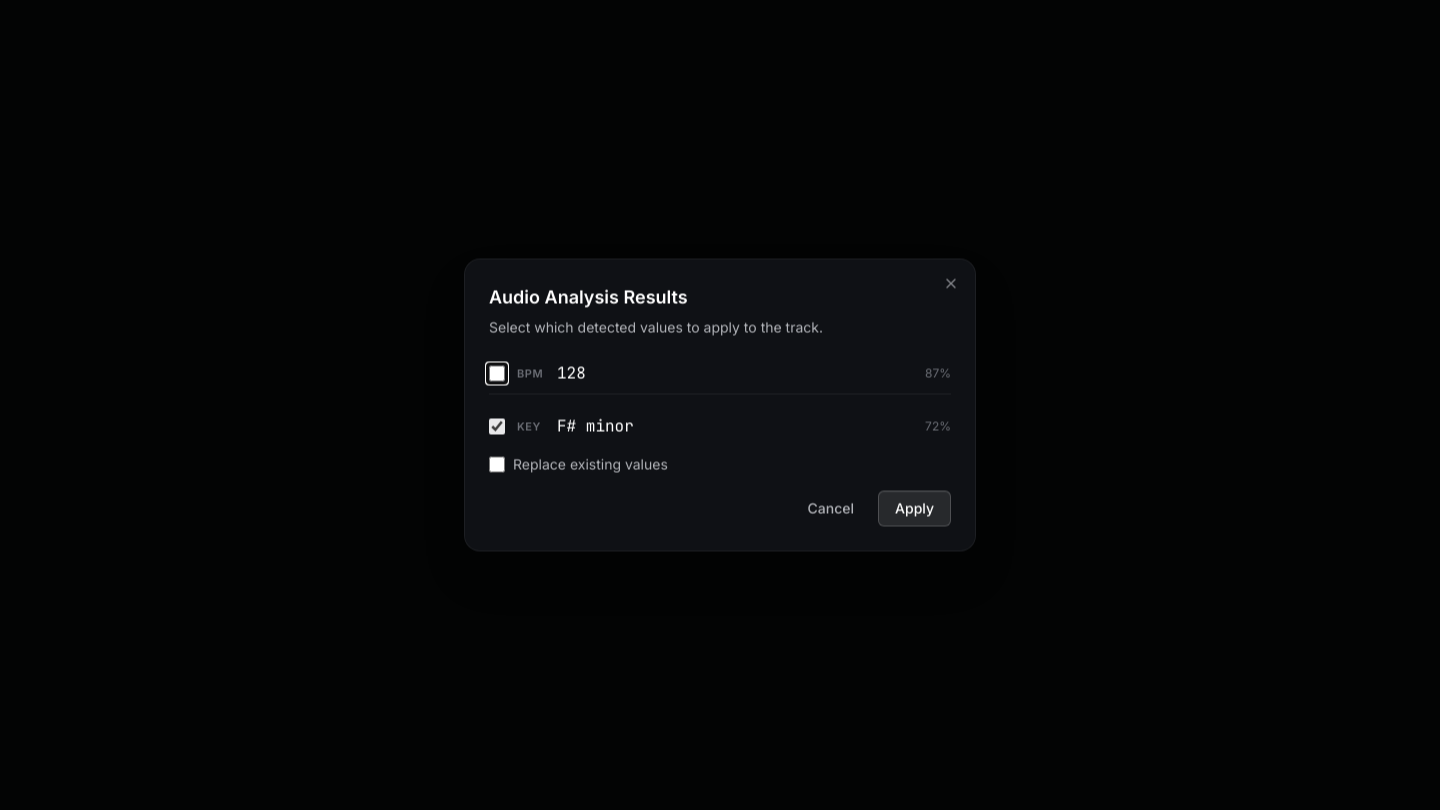
Test: AnalyzeResultDialog › Replace existing toggle flips BPM checkbox default to checked when field populated
The width and height of the screenshot is (1440, 810).
Expected: the checkbox next to "BPM" is not checked, [489,366,505,382]
Toggle Replace existing
Click the checkbox labelled "Replace existing values" at (497,464), box [489,456,505,472]
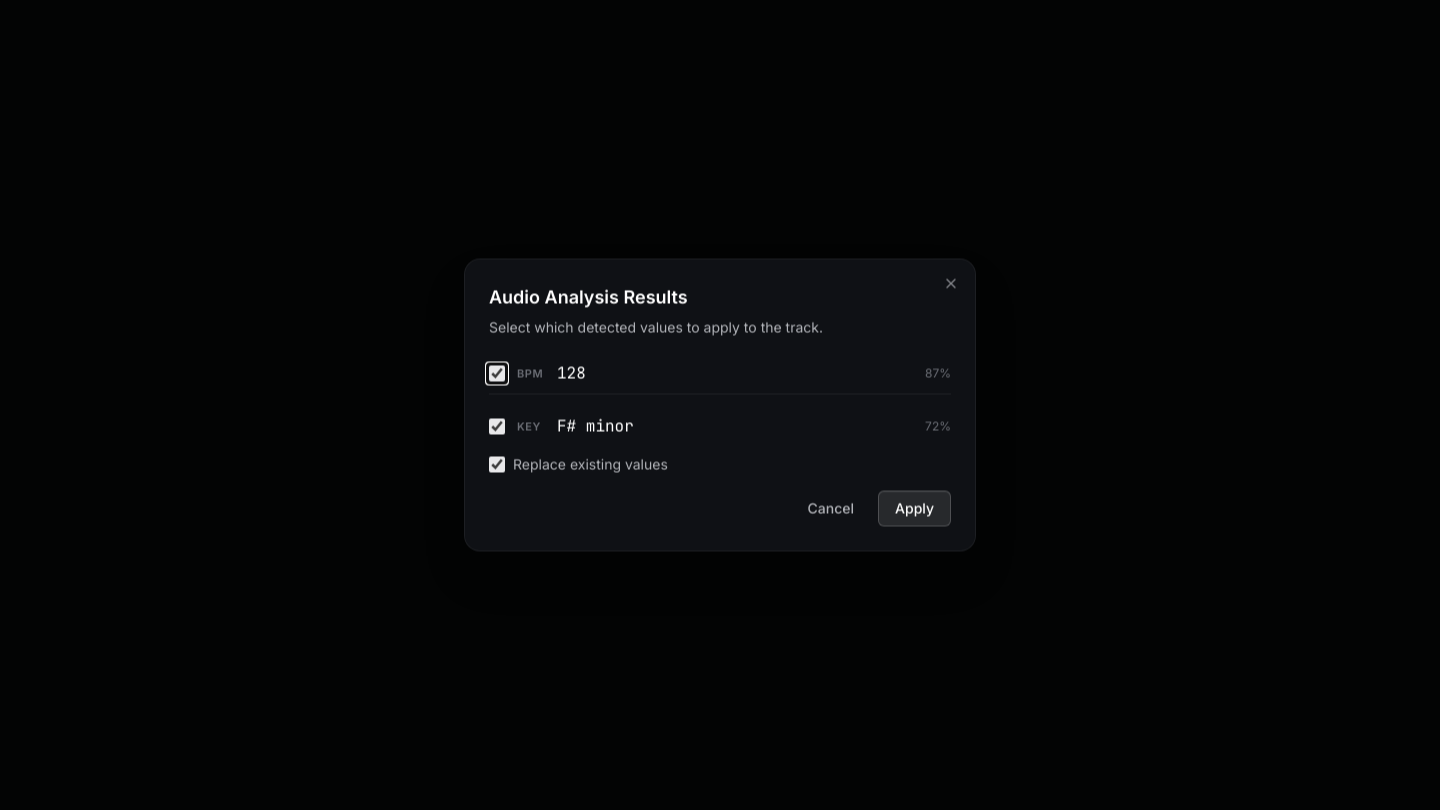
Now the checkbox next to "BPM" is checked, box [489,366,505,382]
